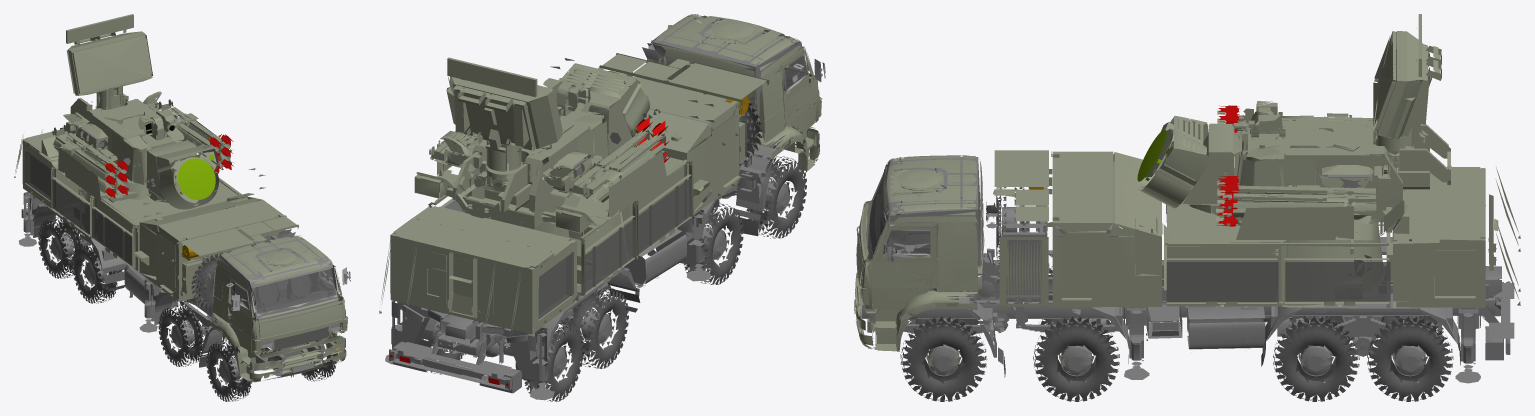
Rendered from pantsir_s1_lod1.glb.
The picture shows the model from 3 angles, left to right: view 1: azimuth 30°, elevation 25°; view 2: azimuth 150°, elevation 25°; view 3: azimuth 270°, elevation 25°; orthographic projection. The views are drawn at different scales.
Parts seen in each view (by area): view 1: Body; view 2: Body; view 3: Body.
Part boxes in pixels (x1,y1,x2,y2): Body: [14, 14, 350, 401]; Body: [379, 14, 825, 401]; Body: [854, 14, 1520, 401].
Size of the model in its own units: 3.02 by 5.26 by 9.52.
